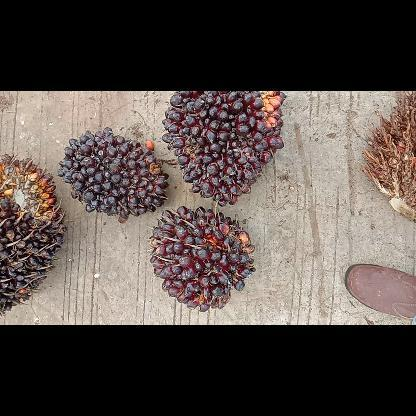TBS mentah: (160, 90, 290, 208), (146, 202, 258, 314), (55, 125, 170, 223)
